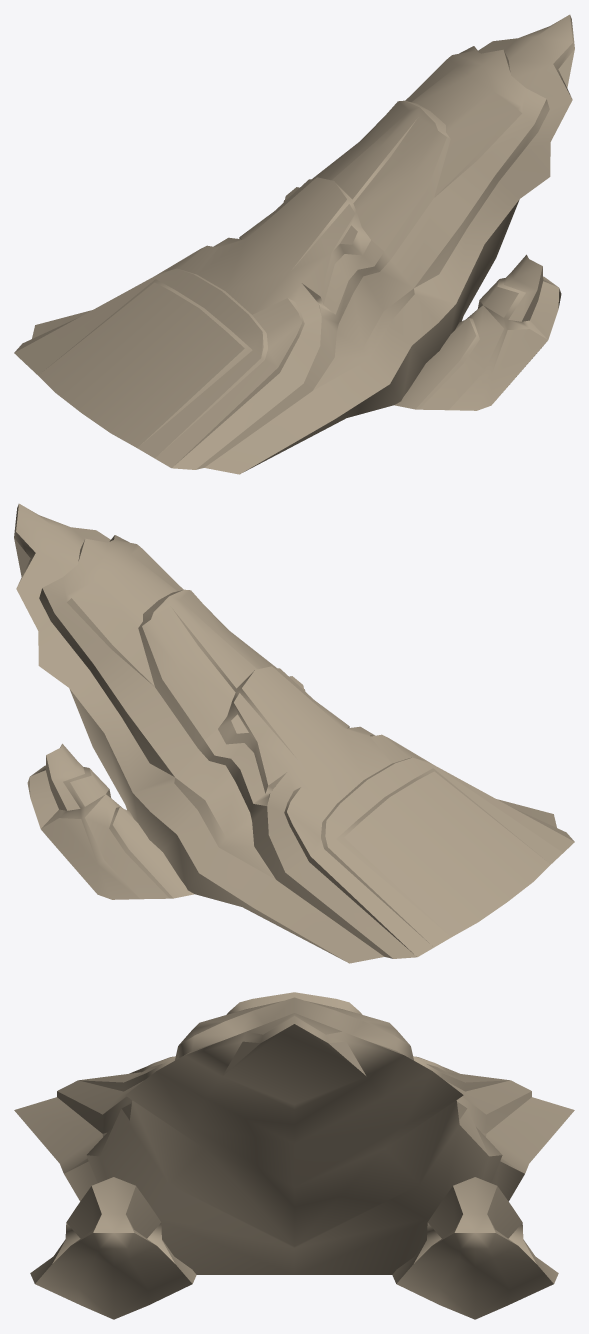
The model's file is bigRock.fbx.
3 renders of one model, top to bottom at view 1: azimuth 30°, elevation 25°; view 2: azimuth 150°, elevation 25°; view 3: azimuth 270°, elevation 25°, orthographic. The views are drawn at different scales.
Visible parts, largest first — view 1: rock01_Mesh; view 2: rock01_Mesh; view 3: rock01_Mesh.
Boxes of the visible parts, x1,y1,x2,y2 form: rock01_Mesh: [14, 14, 574, 474]; rock01_Mesh: [14, 503, 574, 963]; rock01_Mesh: [14, 992, 574, 1319].
Bounding box in the file's own units: 29 × 15.83 × 20.94.
